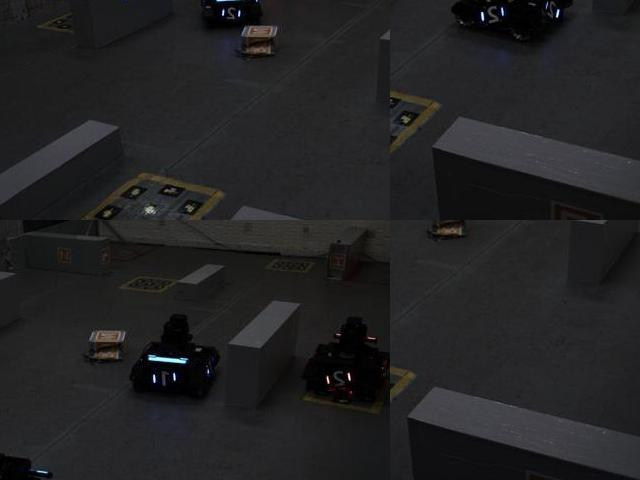armor: (476, 0, 510, 32), (149, 367, 182, 393), (325, 365, 356, 392), (542, 0, 565, 25), (218, 4, 246, 21)
